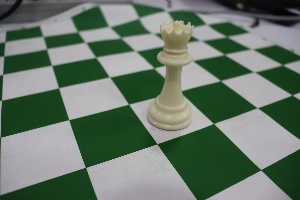white_queen: (149, 14, 195, 133)
